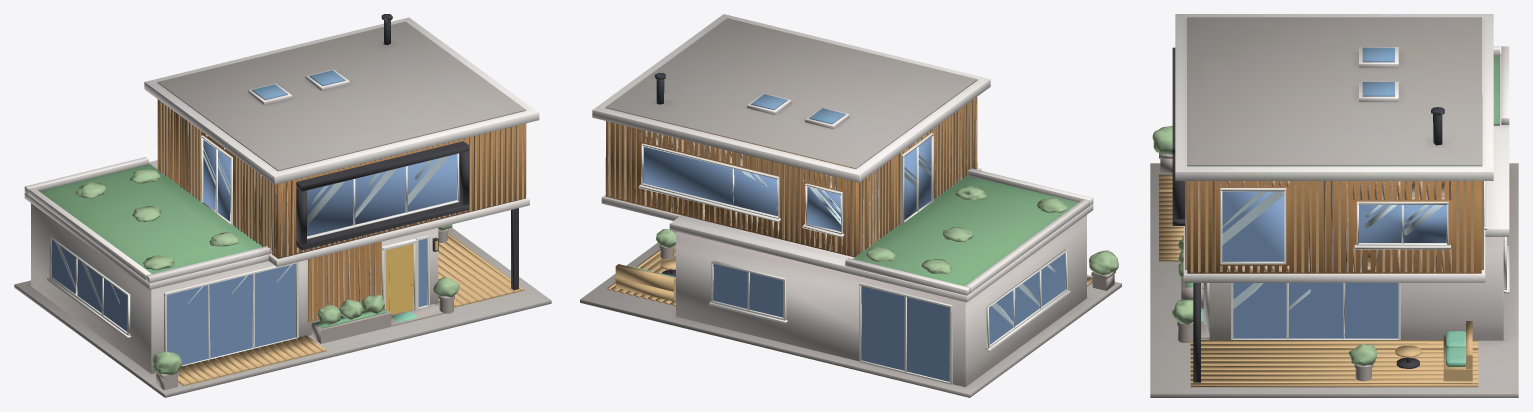
The model's file is modern-house.glb.
3 views of the same model, side by side, from view 1: azimuth 30°, elevation 25°; view 2: azimuth 150°, elevation 25°; view 3: azimuth 270°, elevation 25° (orthographic). The views are drawn at different scales.
Visible parts, largest first — view 1: modern-house_body, modern-house_details; view 2: modern-house_body, modern-house_details; view 3: modern-house_body, modern-house_details.
Boxes of the visible parts, x1,y1,x2,y2 form: modern-house_body: (14, 14, 551, 397); modern-house_details: (47, 135, 524, 390); modern-house_body: (580, 14, 1121, 397); modern-house_details: (607, 133, 1118, 384); modern-house_body: (1150, 14, 1518, 397); modern-house_details: (1152, 47, 1509, 387).
Size of the model in its own units: 14.9 by 7.78 by 9.97.
Materials: 2 (2 with a texture image).
